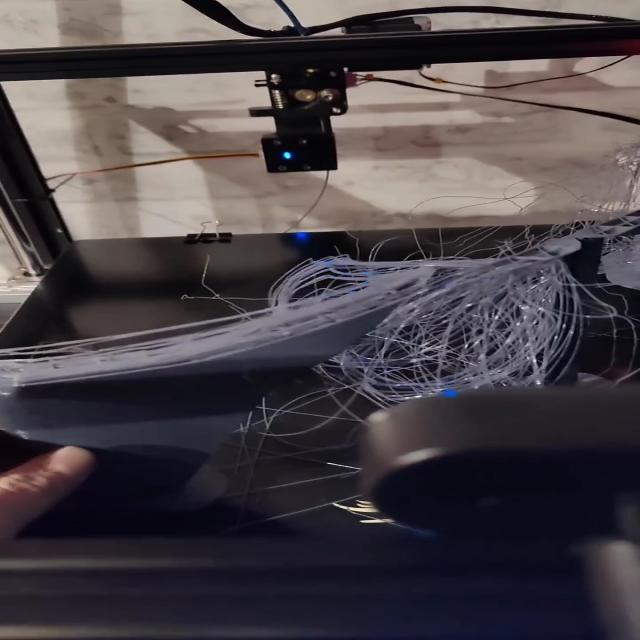spaghetti: (260, 232, 632, 405)
